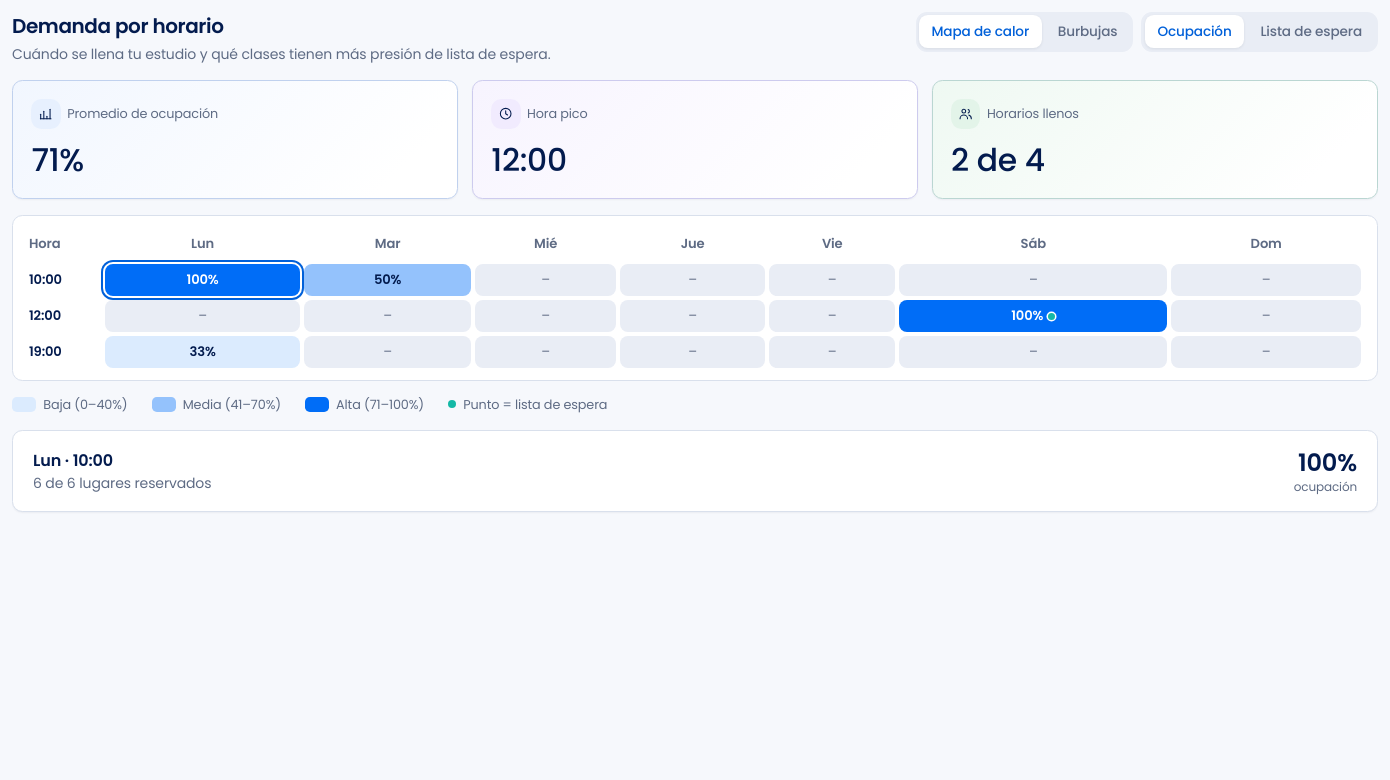
Test: Demanda por horario › con lista de espera se puede ver la espera, y las burbujas como alternativa
Step 1. Click the button "Lista de espera" → click(1311, 32), box [1248,15,1375,48]
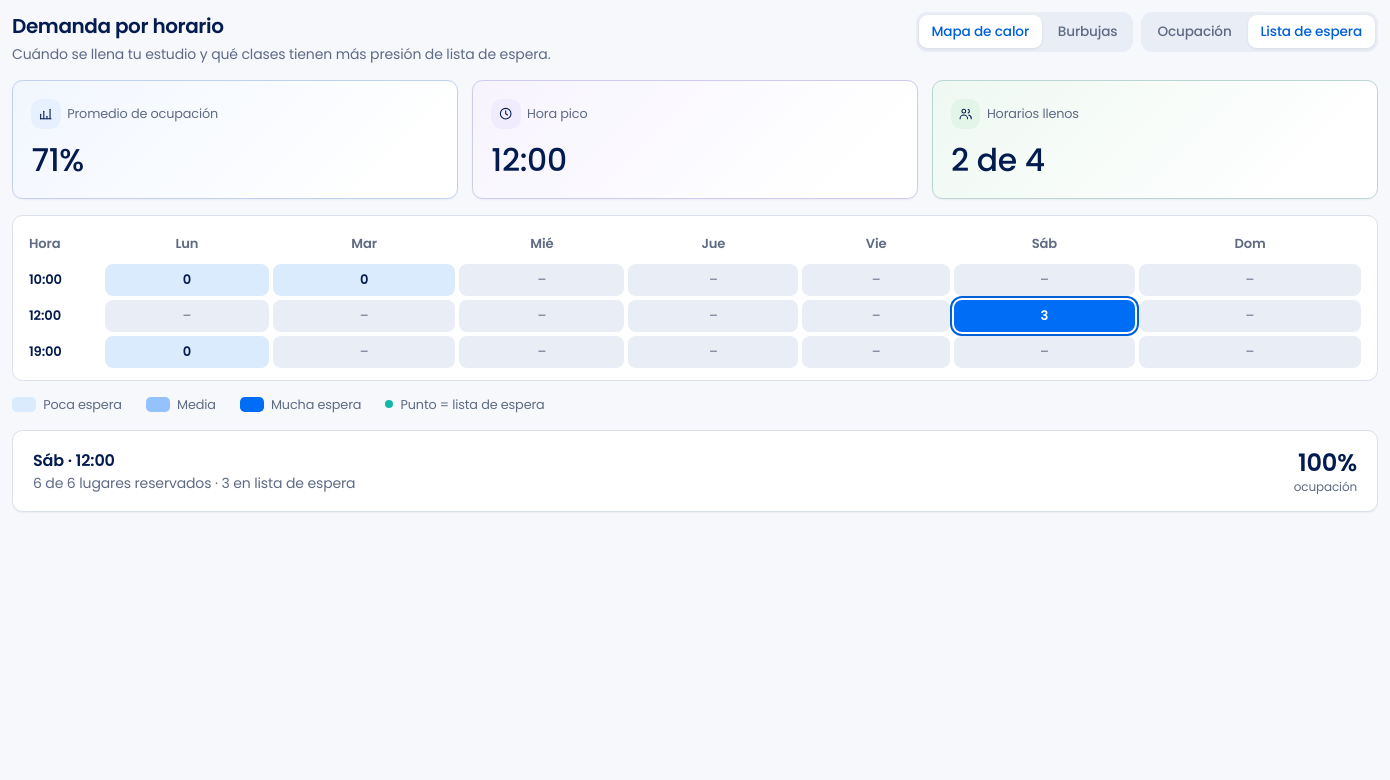
Result: the button "3" is shown at [954,300,1135,332]
Result: the 1st button "0" is shown at [105,264,269,296]
Step 2. Click the button "Burbujas" → click(1088, 32), box [1045,15,1130,48]
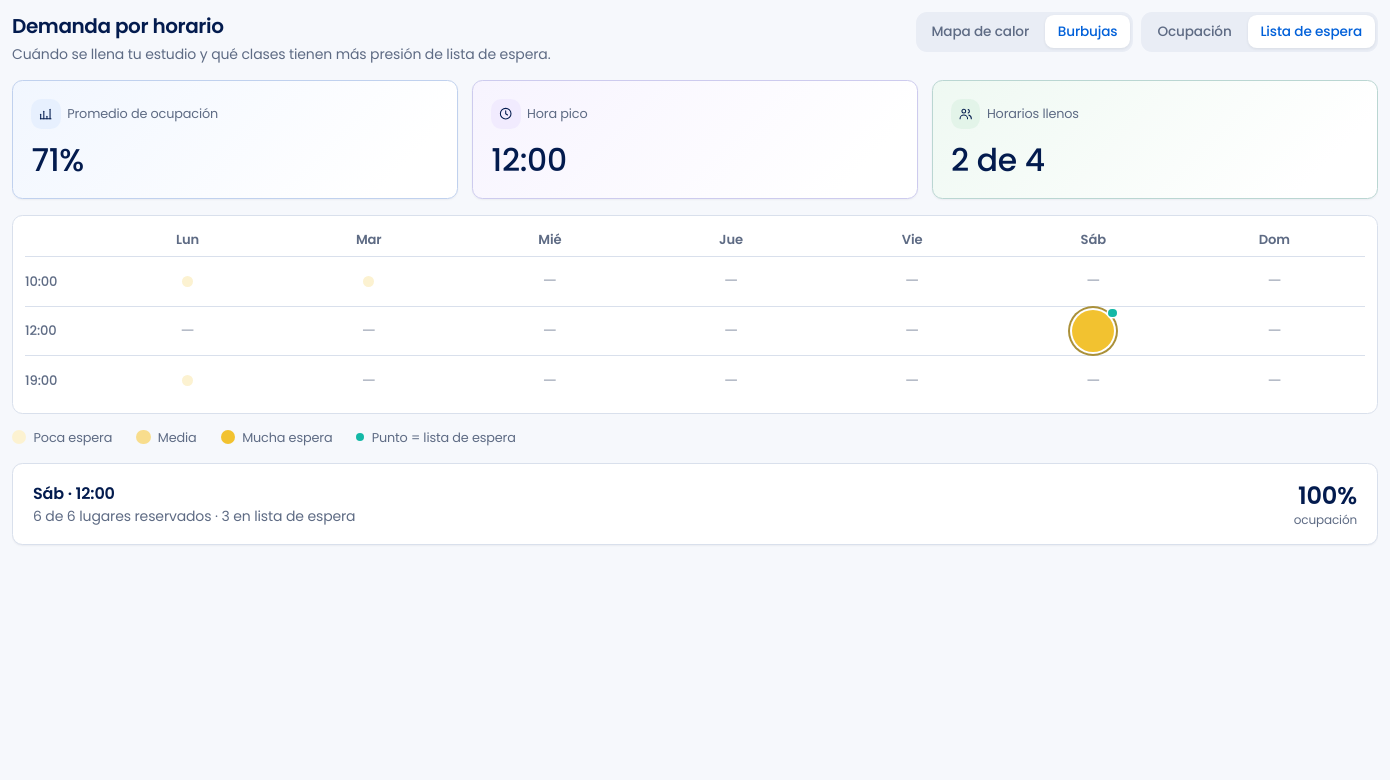
Result: the element that starts with "Lun" is shown at [25,224,1365,405]
Result: the number of buttons with class "md-burbuja" is 4 at [182,276,193,287]; [363,276,374,287]; [1072,310,1114,352]; [182,375,193,386]
